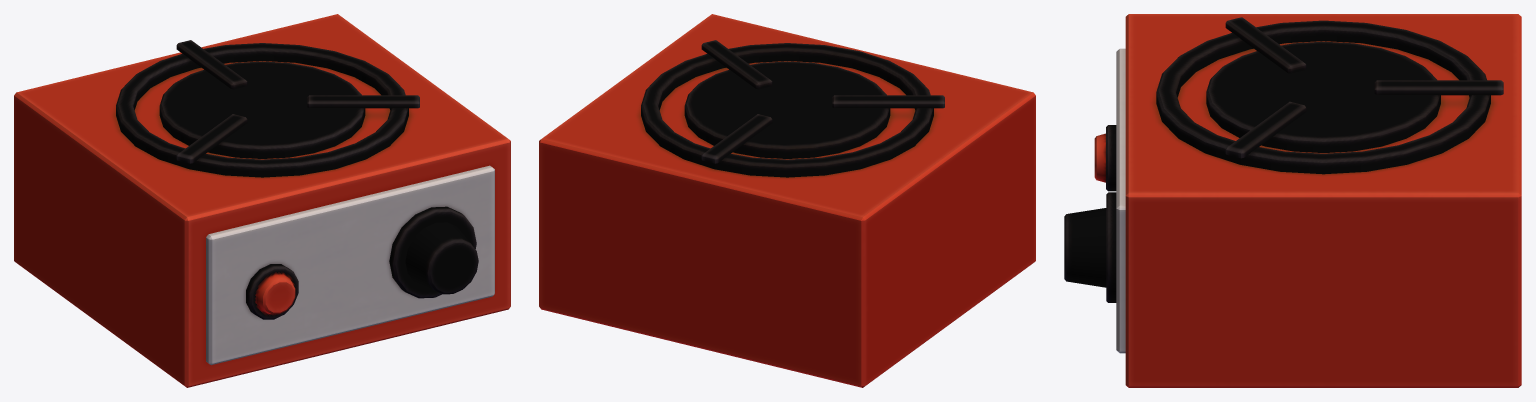
File: stove_left.glb
The picture shows the model from 3 angles, left to right: view 1: azimuth 30°, elevation 25°; view 2: azimuth 150°, elevation 25°; view 3: azimuth 270°, elevation 25°; orthographic projection. The views are drawn at different scales.
Parts seen in each view (by area): view 1: stove; view 2: stove; view 3: stove.
Boxes of the visible parts, x1,y1,x2,y2 form: stove: (14,14,510,387); stove: (539,14,1035,387); stove: (1064,14,1521,387).
Bounding box in the file's own units: 2 × 1.1 × 2.13.
1 material, 1 textured.
